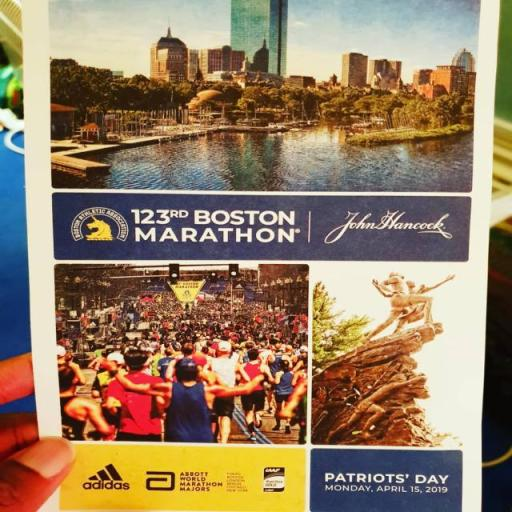Adidas: (79, 461, 132, 493)
